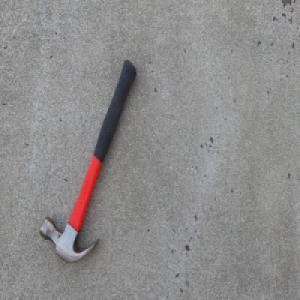Hammer: (38, 58, 137, 265)
